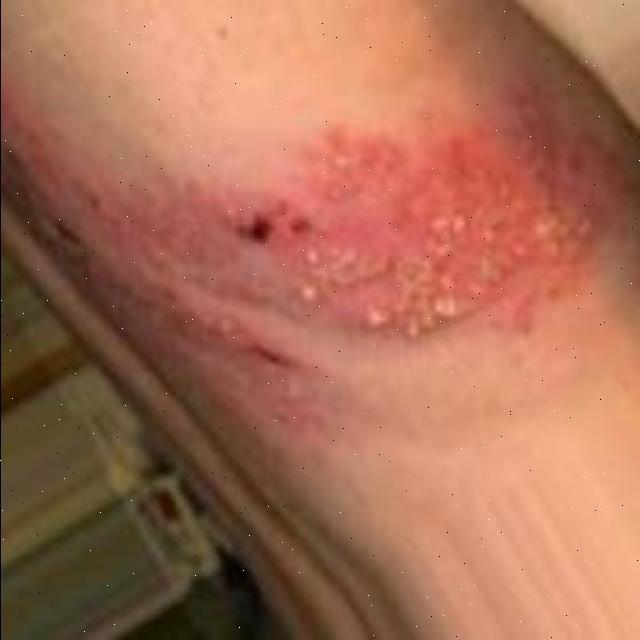Shingles: (265, 128, 609, 343)
